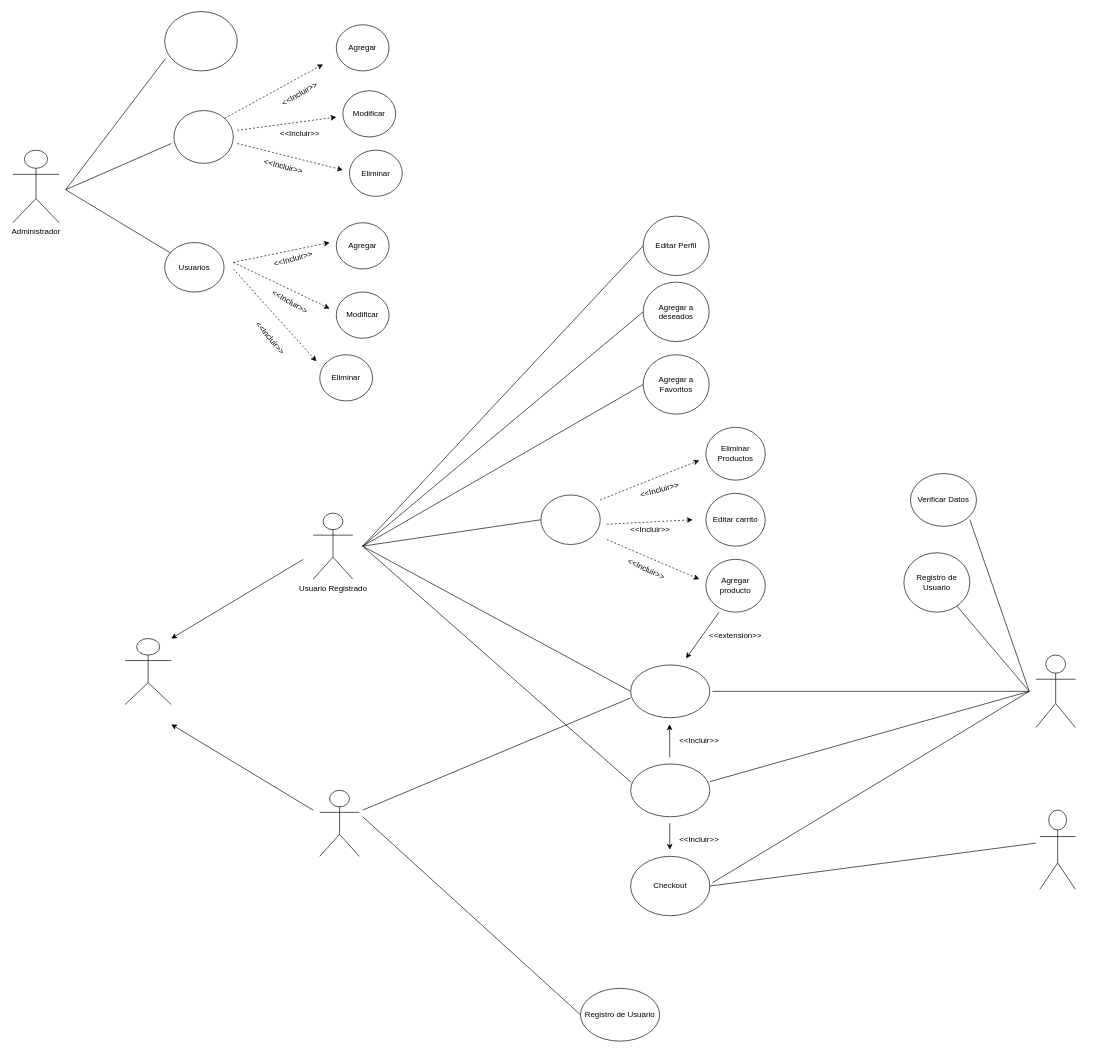
The diagram is 1111 pixels wide and 1053 high, and some of its shapes have lost their labels. The centre of each missing label's shape, as x and y in pixels:
"Carrito" goes at (570,519).
"Mantenimiento de Sistema" goes at (200,41).
"Nuevo Usuario" goes at (339,823).
"Prodctos" goes at (203,136).
"Realizar comra" goes at (670,790).
"Servicio de Autenticación" goes at (1055,691).
"Stripe" goes at (1057,849).
"Usuario Web" goes at (147,671).
"Ver Petshop (Productos)" goes at (670,691).
